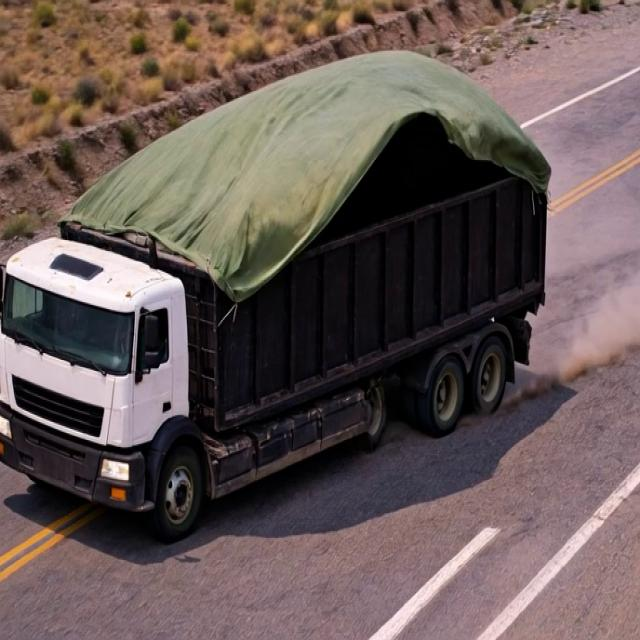trailer: (73, 45, 552, 270)
truck: (3, 14, 560, 583)
